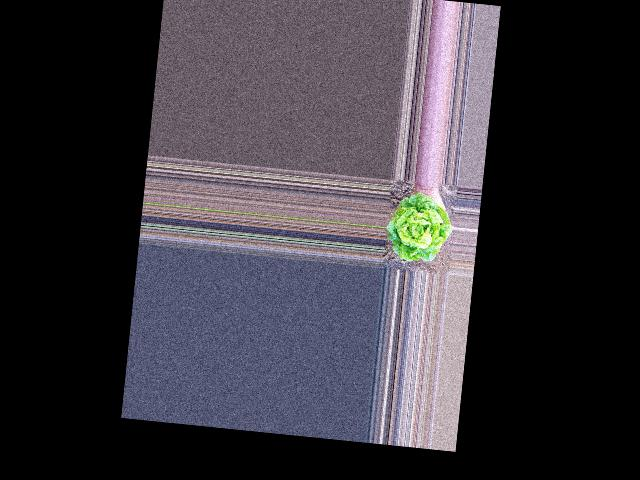lettuce: (385, 194, 452, 266)
